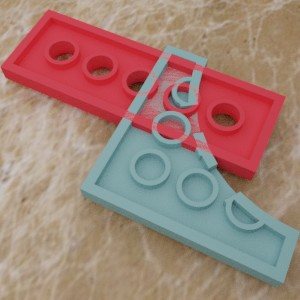lego: (79, 44, 299, 287), (0, 9, 286, 181)
